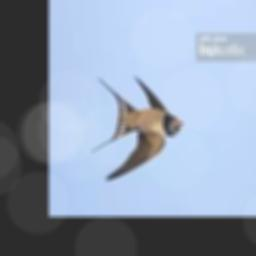Swallow: (90, 76, 184, 182)
